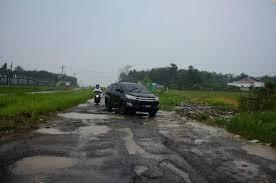Pothole: (157, 101, 223, 156), (35, 108, 132, 144), (213, 139, 276, 183), (4, 148, 81, 183), (116, 155, 195, 183), (114, 121, 158, 163), (83, 92, 93, 114)
